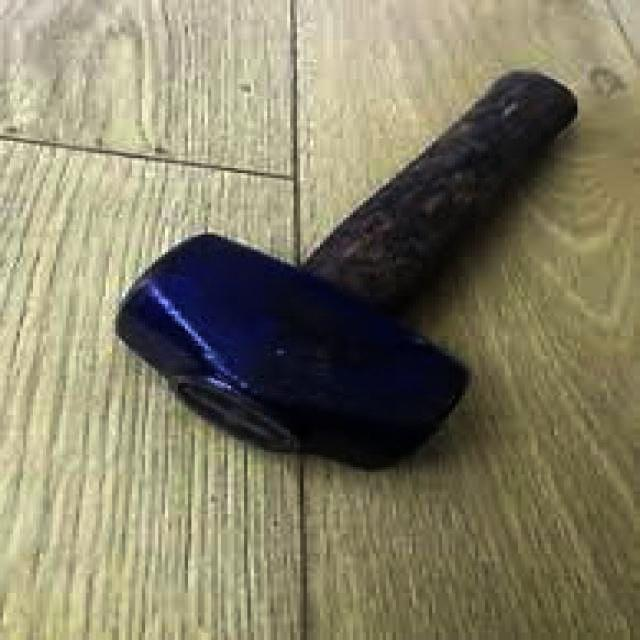hammer: (100, 56, 586, 498)
